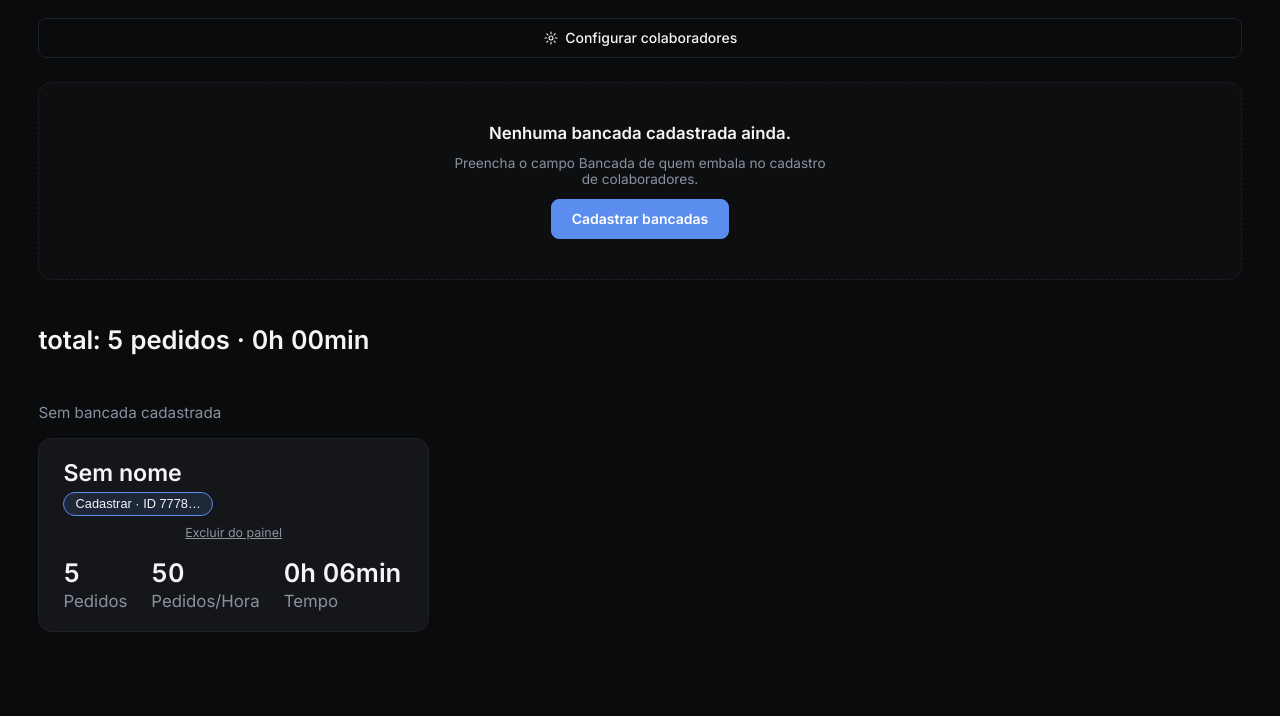
Test: Embalagem — CRUD de colaboradores › card sem colaborador cadastrado mostra "Sem nome" + badge "Cadastrar", que abre o painel com o ID preenchido
Expected: the heading "Sem nome" is shown, [63,459,182,487]
Step 1. Click the button "Cadastrar · ID 7778…" → [138, 504], box [63,492,213,516]
(page scrolled)
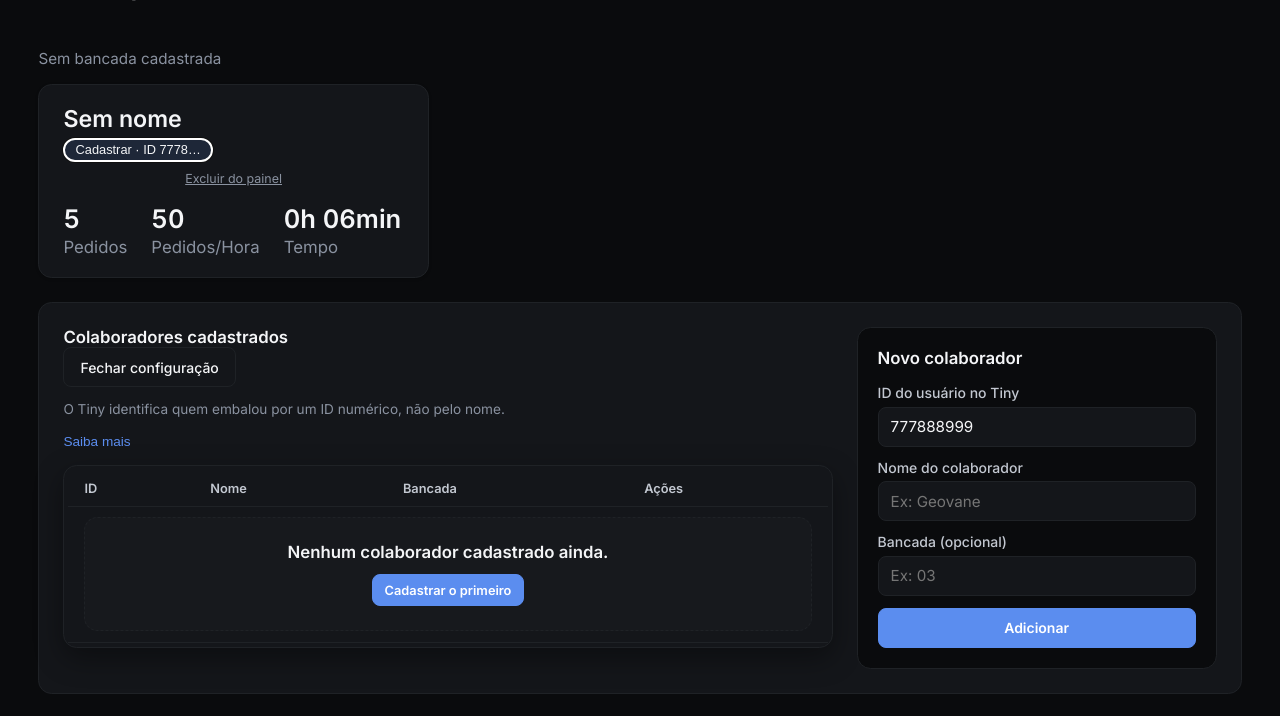
Expected: the field labelled "ID do usuário no Tiny" holds "777888999", [878,407,1196,447]
